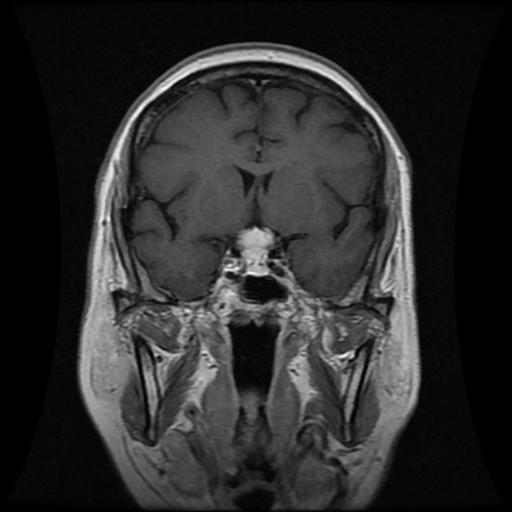Menigiomia_tumour: (234, 224, 275, 276)
